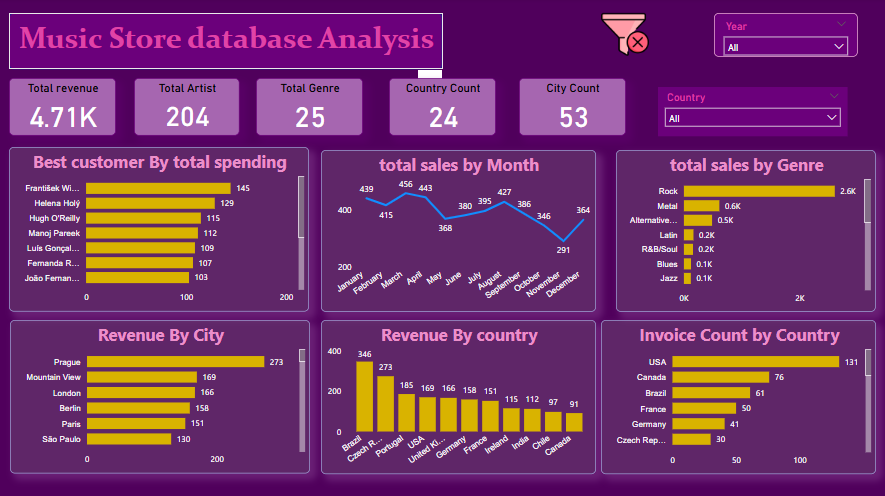

What the dashboard file says about the page in this screenshot:
{"tool":"powerbi","page":{"name":"overview 1","canvas":[1280,720],"ordinal":0},"visuals":[{"type":"clusteredBarChart","title":"Revenue By City","fields":{"Category":["invoice.billing_city"],"Y":["invoice_line.total sales"]},"box":[16.9,464.4,432.3,221.2],"z":0},{"type":"lineStackedColumnComboChart","title":"Revenue By country","fields":{"Y":["invoice_line.total sales"],"Category":["invoice.billing_country"]},"box":[465.3,463.6,396.4,221.7],"z":1000},{"type":"slicer","fields":{"Values":["invoice.billing_country"]},"box":[950.5,127.5,273.2,71.2],"z":2000},{"type":"card","title":"Total revenue","fields":{"Values":["invoice_line.total sales"]},"box":[16.6,115.9,154,82.8],"z":3000},{"type":"clusteredBarChart","title":" Invoice Count by Country","fields":{"Category":["invoice.billing_country"],"Y":["invoice.Count Of Invoice"]},"box":[868.5,463.6,396.4,221.7],"z":4000},{"type":"slicer","fields":{"Values":["invoice.invoice_date.Variation.Date Hierarchy.Year"]},"box":[1031.6,21.5,207,62.9],"z":5000},{"type":"textbox","box":[16.6,21.5,624.3,81.1],"z":6000},{"type":"card","title":"Total Artist","fields":{"Values":["Count(album2.artist_id)"]},"box":[195.4,115.9,152.3,82.8],"z":7000},{"type":"clusteredBarChart","title":"Best customer By total spending","fields":{"Y":["Sum(invoice.total)"],"Category":["customer.Full_name"]},"box":[16.6,215.3,432.2,236.8],"z":8000},{"type":"lineChart","fields":{"Y":["invoice_line.total sales"],"Category":["invoice.invoice_date.Variation.Date Hierarchy.Month"]},"box":[465.3,218.6,395.8,233.5],"z":9000},{"type":"clusteredBarChart","fields":{"Category":["genre.name"],"Y":["invoice_line.total sales"]},"box":[889.2,218.6,374.2,233.5],"z":11000},{"type":"card","title":"Total Genre","fields":{"Values":["CountNonNull(genre.genre_id)"]},"box":[370.9,115.9,154,82.8],"z":11002},{"type":"card","title":"Country Count","fields":{"Values":["Count(invoice.billing_country)"]},"box":[563,115.9,154,82.8],"z":11003},{"type":"card","title":"City Count","fields":{"Values":["Count(invoice.billing_city)"]},"box":[750.1,115.9,154,82.8],"z":11004},{"type":"image","box":[829.6,13.2,147.4,79.5],"z":11005}]}

Visuals, with their boxes in screenshot pixels (x1, y1, x2, y2), scaled from the page's 1280x720 canvas onto the 885x496 screenshot:
"Revenue By City" clusteredBarChart: crop(12, 320, 311, 472)
"Revenue By country" lineStackedColumnComboChart: crop(322, 319, 596, 472)
slicer - invoice.billing_country: crop(657, 88, 846, 137)
"Total revenue" card: crop(11, 80, 118, 137)
" Invoice Count by Country" clusteredBarChart: crop(600, 319, 875, 472)
slicer - invoice.invoice_date.Variation.Date Hierarchy.Year: crop(713, 15, 856, 58)
textbox: crop(11, 15, 443, 71)
"Total Artist" card: crop(135, 80, 240, 137)
"Best customer By total spending" clusteredBarChart: crop(11, 148, 310, 311)
lineChart - invoice_line.total sales x invoice.invoice_date.Variation.Date Hierarchy.Month: crop(322, 151, 595, 311)
clusteredBarChart - genre.name x invoice_line.total sales: crop(615, 151, 874, 311)
"Total Genre" card: crop(256, 80, 363, 137)
"Country Count" card: crop(389, 80, 496, 137)
"City Count" card: crop(519, 80, 625, 137)
image: crop(574, 9, 676, 64)
